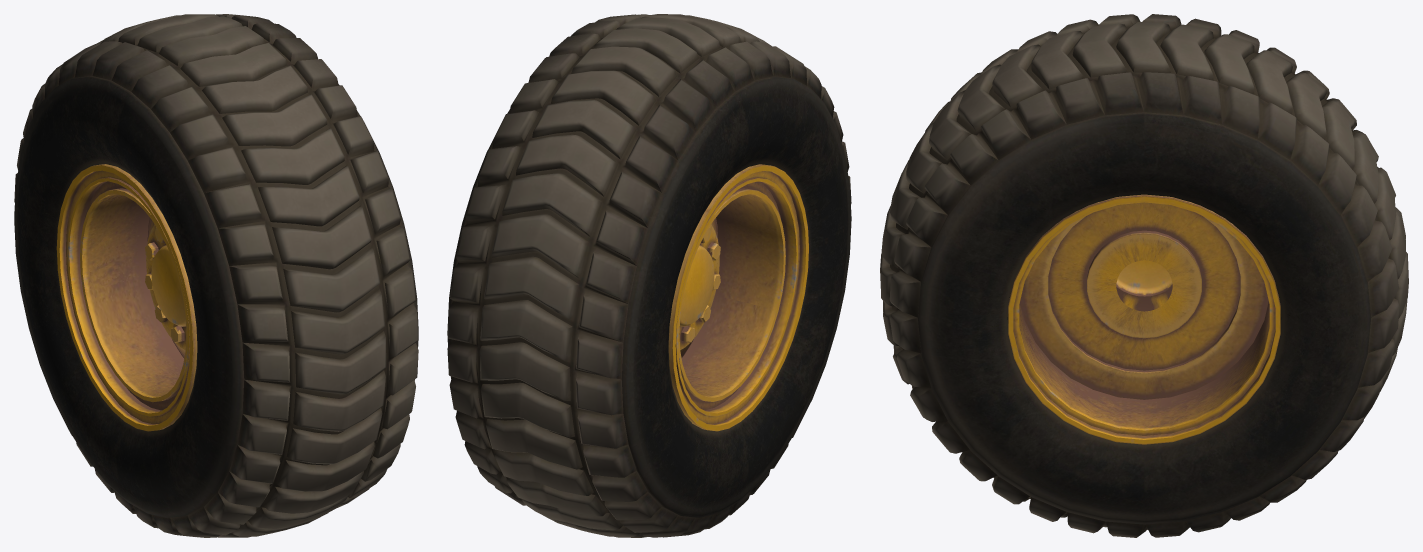
File: lastlasttyrerightoptimized.glb
The picture shows the model from 3 angles, left to right: view 1: azimuth 30°, elevation 25°; view 2: azimuth 150°, elevation 25°; view 3: azimuth 270°, elevation 25°; orthographic projection.
Parts seen in each view (by area): view 1: 010; view 2: 010; view 3: 010.
Boxes of the visible parts, <box> form: 010: <box>14,14,418,537</box>; 010: <box>447,14,851,537</box>; 010: <box>880,14,1408,537</box>.
Size of the model in its own units: 28.06 by 64.44 by 64.44.
1 material, 1 textured.
